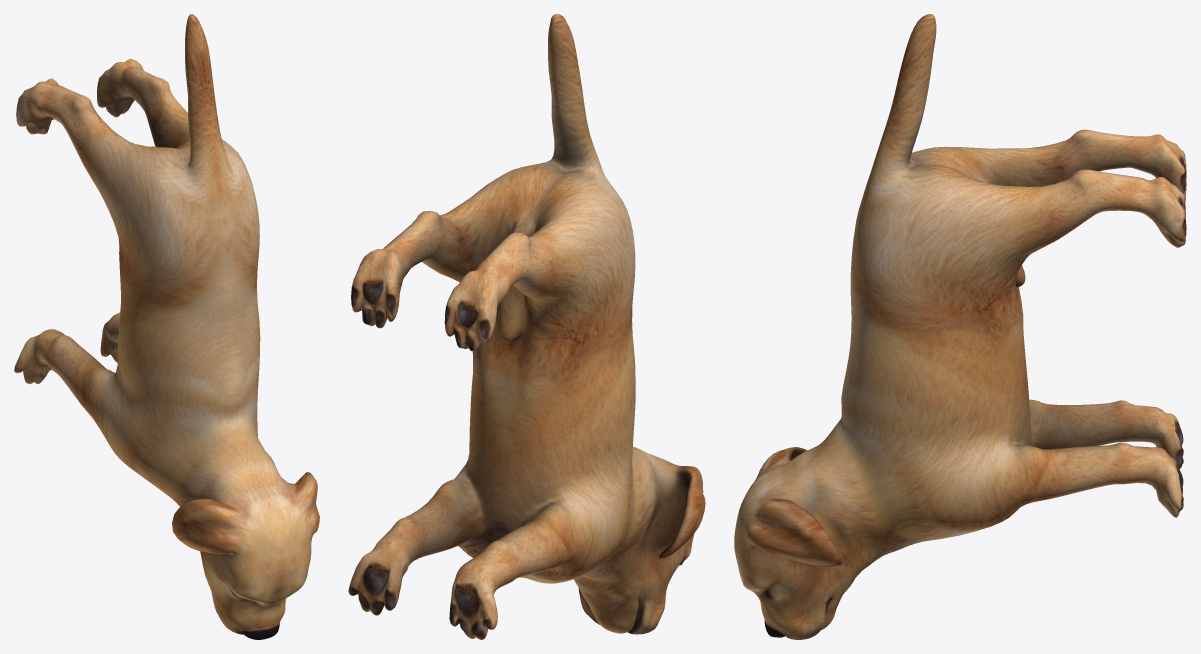
3 views of the same model, side by side, from view 1: azimuth 30°, elevation 25°; view 2: azimuth 150°, elevation 25°; view 3: azimuth 270°, elevation 25° (orthographic). The views are drawn at different scales.
Parts seen in each view (by area): view 1: Dog_body; view 2: Dog_body; view 3: Dog_body.
Part boxes in pixels (x1,y1,x2,y2): Dog_body: (14, 14, 319, 639); Dog_body: (348, 14, 705, 639); Dog_body: (734, 14, 1186, 639).
Bounding box in the file's own units: 133 × 536 × 355.
1 material, 1 textured.
